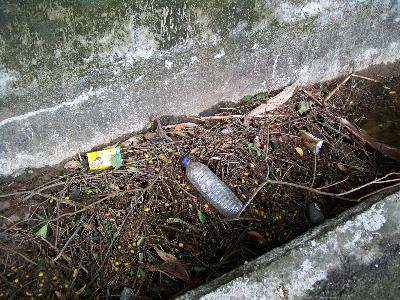bottle: (178, 155, 245, 218)
